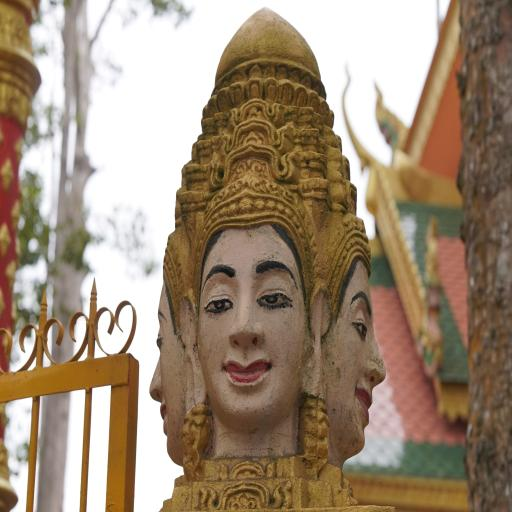than: (155, 2, 388, 512)
